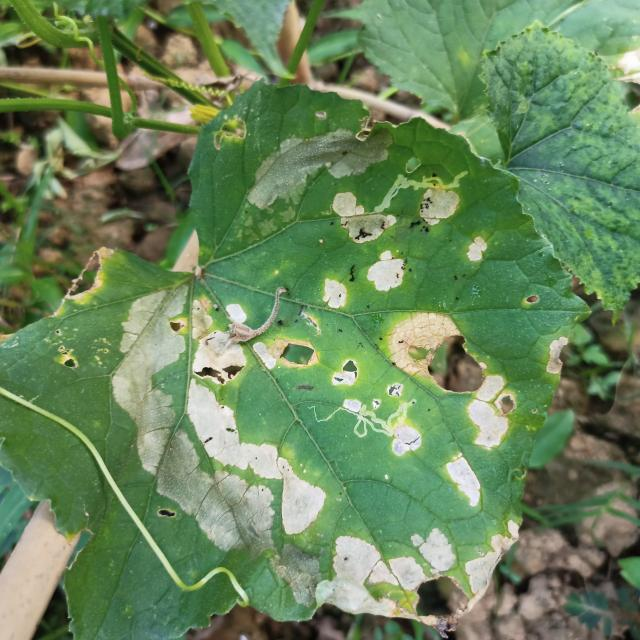disease_cucumber: (110, 278, 401, 625), (387, 310, 568, 614), (259, 131, 496, 304)
